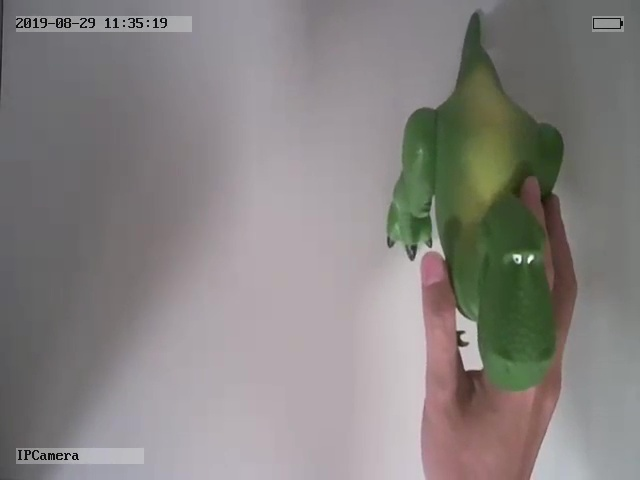rex: (381, 8, 566, 389)
